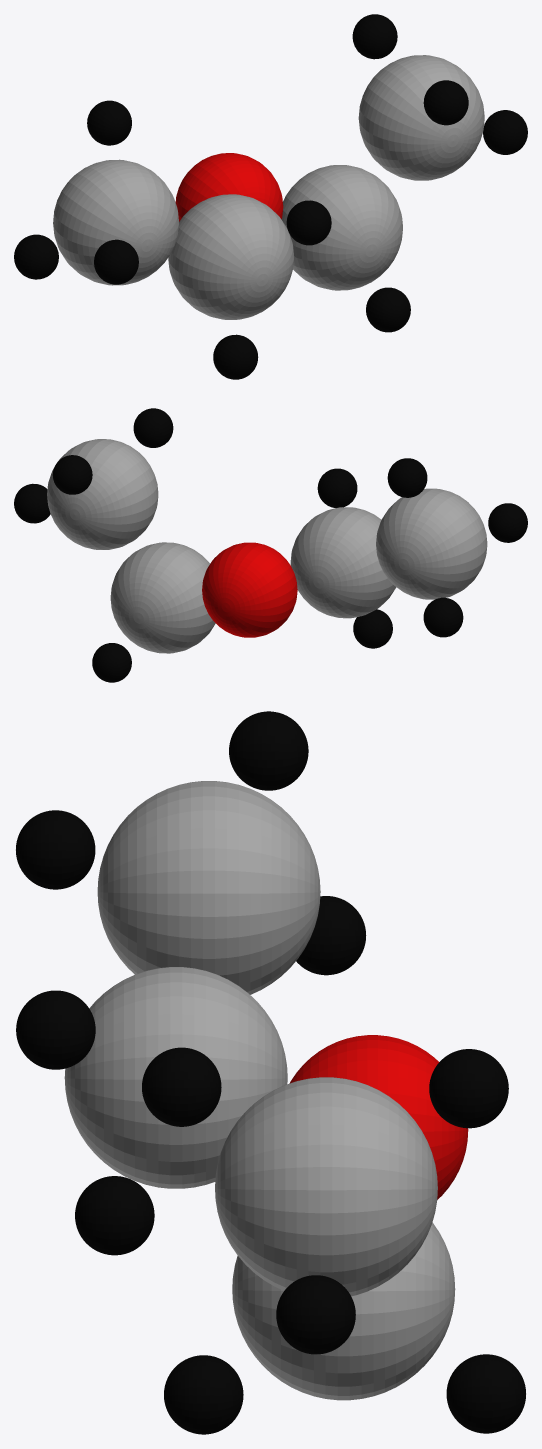
The model's file is Diethyl Ether.glb.
The picture shows the model from 3 angles, top to bottom: view 1: azimuth 30°, elevation 25°; view 2: azimuth 150°, elevation 25°; view 3: azimuth 270°, elevation 25°; orthographic projection. The views are drawn at different scales.
Visible parts, largest first — view 1: world; view 2: world; view 3: world.
Boxes of the visible parts, <box> form: world: <box>14,14,527,379</box>; world: <box>14,408,527,682</box>; world: <box>16,711,525,1434</box>.
Bounding box in the file's own units: 6.47 × 3.4 × 3.2.
